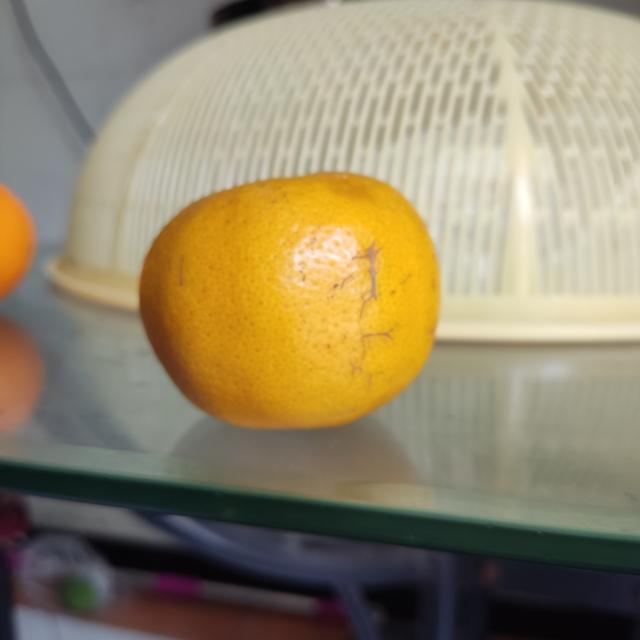orange: (137, 169, 446, 432)
